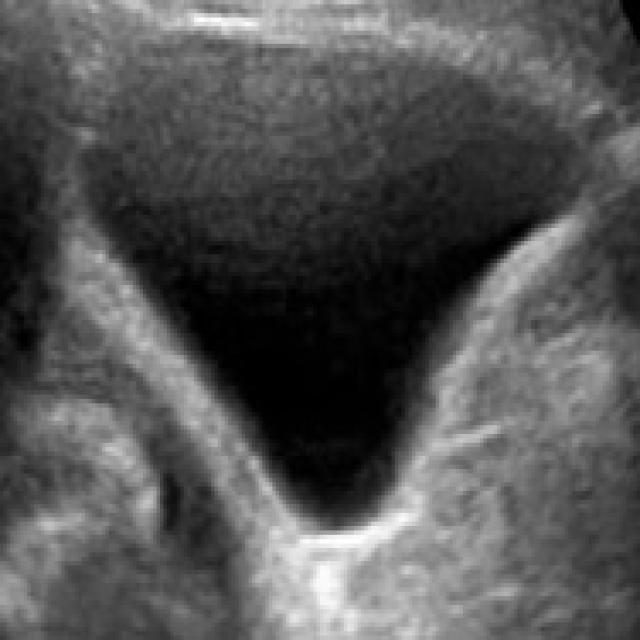bladder: (34, 18, 613, 620)
